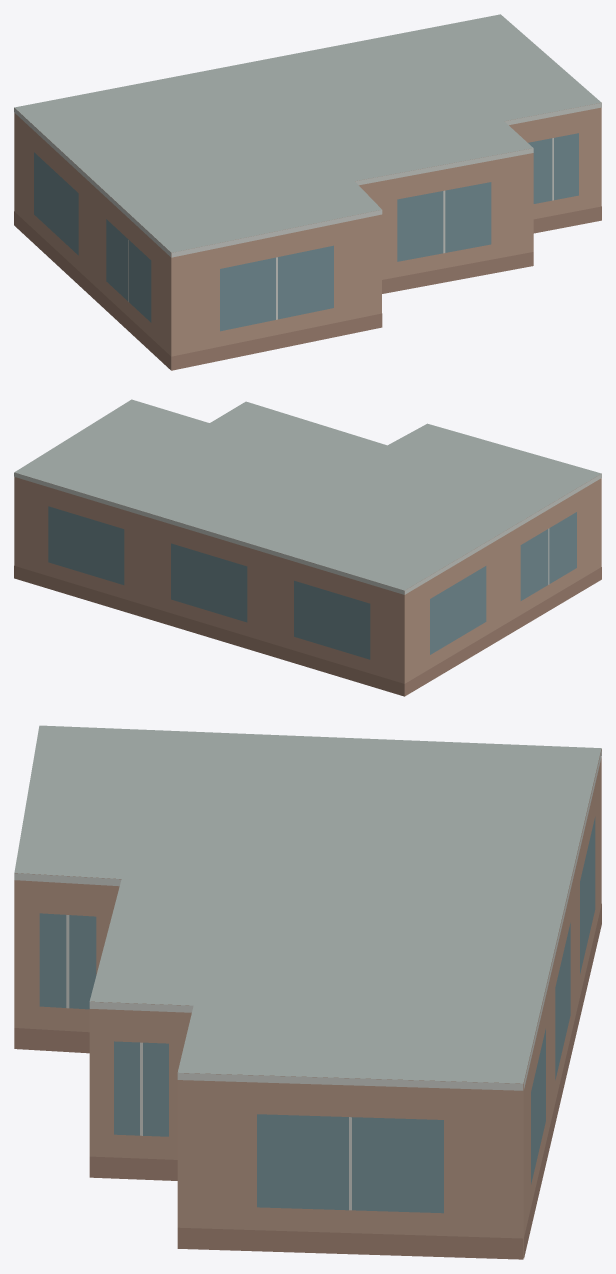
The model's file is survey-upis-32595649.glb.
3 views of the same model, one above another, from view 1: azimuth 30°, elevation 25°; view 2: azimuth 150°, elevation 25°; view 3: azimuth 270°, elevation 25° (orthographic). The views are drawn at different scales.
Parts seen in each view (by area): view 1: survey-upis-32595649.tmp; view 2: survey-upis-32595649.tmp; view 3: survey-upis-32595649.tmp.
Boxes of the visible parts, box(x1,y1,x2,y2) form: survey-upis-32595649.tmp: box(14, 14, 601, 370); survey-upis-32595649.tmp: box(14, 399, 601, 696); survey-upis-32595649.tmp: box(14, 725, 601, 1259).
Size of the model in its own units: 13.33 by 3.05 by 9.24.
